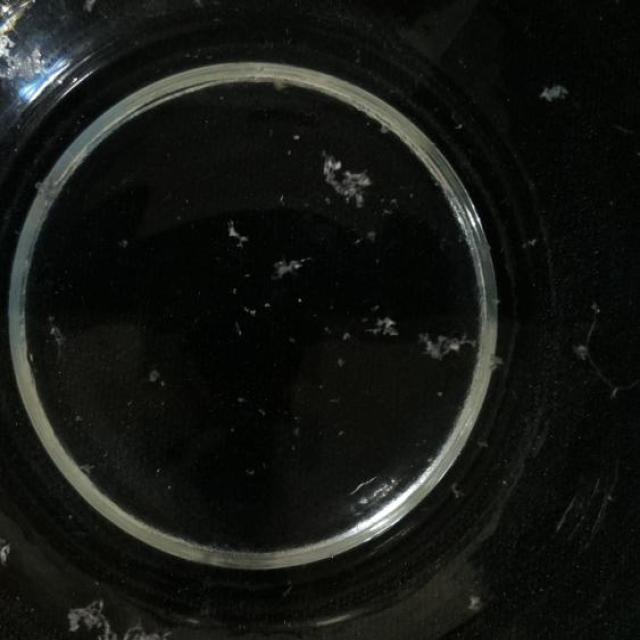fiber: (54, 583, 184, 639), (312, 149, 388, 222), (0, 33, 53, 86), (417, 324, 484, 362), (267, 247, 314, 287), (220, 208, 253, 252), (533, 74, 573, 108), (55, 0, 109, 20), (366, 304, 396, 338), (0, 524, 24, 564), (49, 325, 71, 354), (572, 334, 593, 364), (171, 0, 217, 12), (75, 459, 100, 479), (143, 368, 163, 388), (360, 229, 378, 251), (240, 302, 262, 317), (232, 319, 242, 342), (338, 353, 347, 372), (340, 325, 351, 340)
